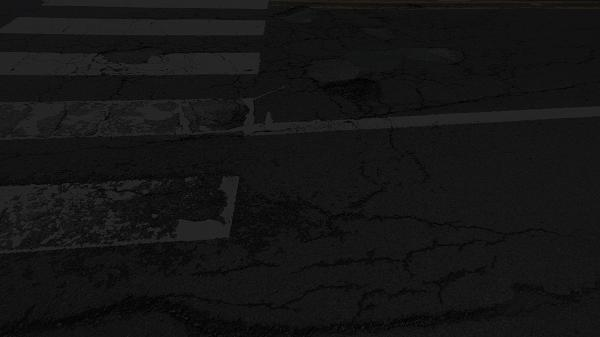pothole: (310, 67, 401, 121)
